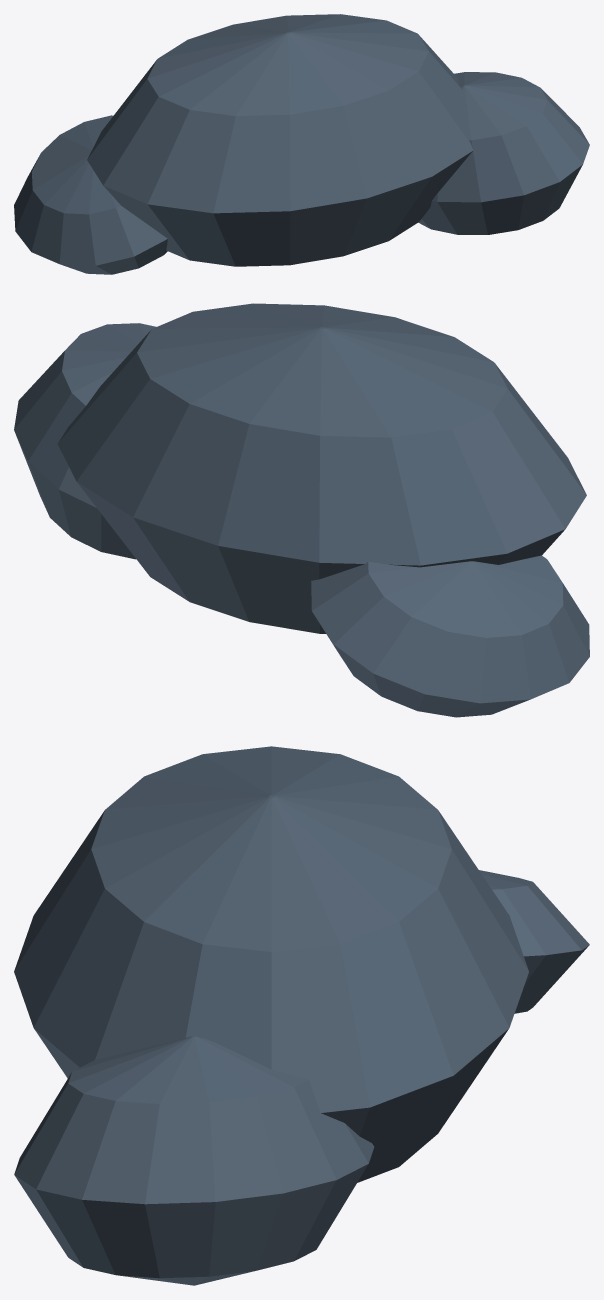
The model's file is horror_rock.obj.
3 renders of one model, top to bottom at view 1: azimuth 30°, elevation 25°; view 2: azimuth 150°, elevation 25°; view 3: azimuth 270°, elevation 25°, orthographic. The views are drawn at different scales.
Visible parts, largest first — view 1: Rock0, Rock1, Rock2; view 2: Rock0, Rock2, Rock1; view 3: Rock0, Rock1, Rock2.
Boxes of the visible parts, x1,y1,x2,y2 form: Rock0: (87,14,473,266); Rock1: (418,72,589,234); Rock2: (14,115,167,274); Rock0: (57,303,586,633); Rock2: (311,555,589,717); Rock1: (14,323,156,559); Rock0: (14,746,528,1182); Rock1: (14,1036,374,1285); Rock2: (479,870,589,1013).
Bounding box in the file's own units: 3.46 × 1.5 × 2.24.
